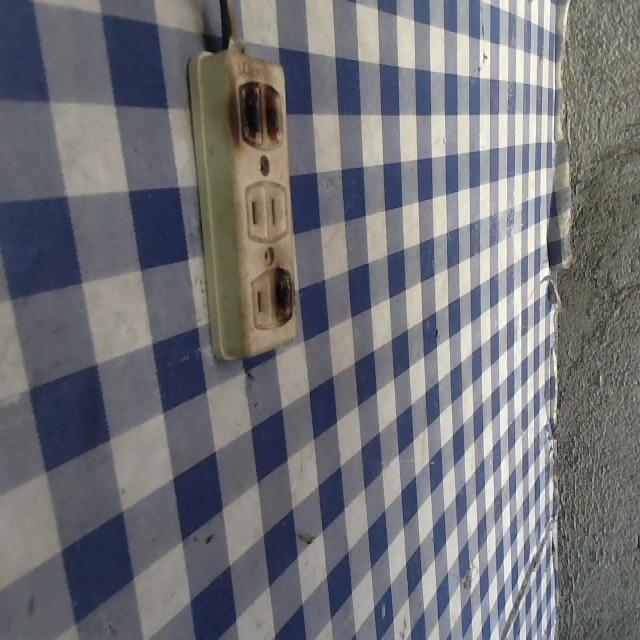-: (231, 76, 285, 161), (270, 263, 304, 328)
